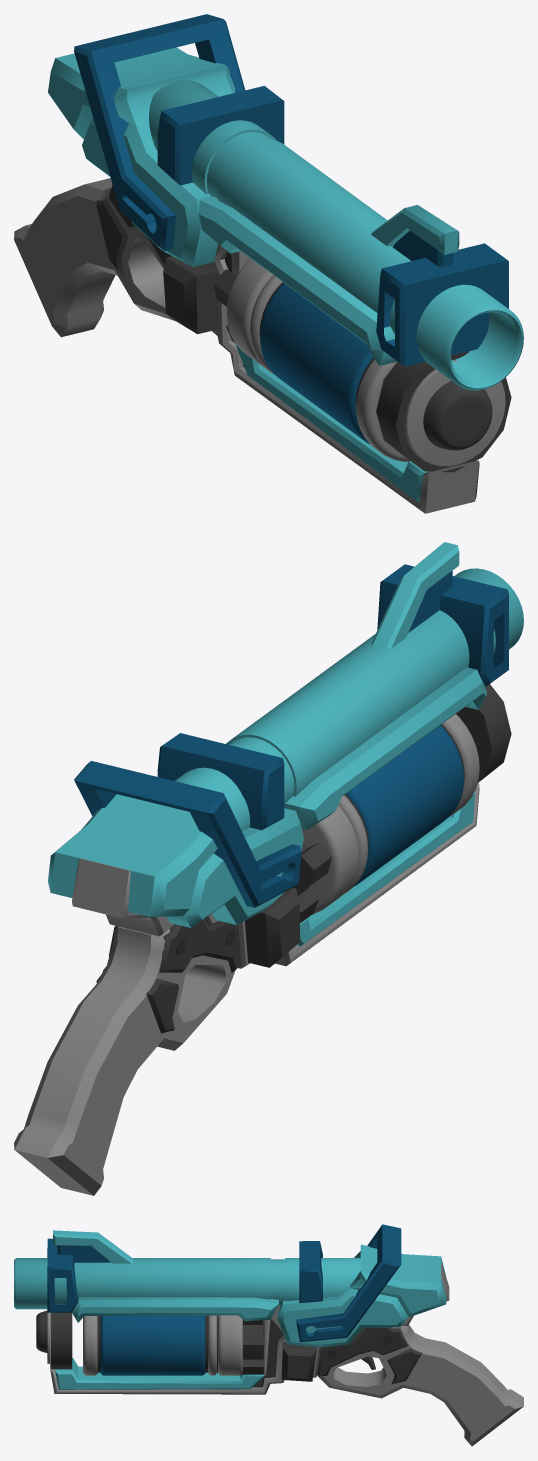
The picture shows the model from 3 angles, top to bottom: view 1: azimuth 30°, elevation 25°; view 2: azimuth 150°, elevation 25°; view 3: azimuth 270°, elevation 25°; orthographic projection. The views are drawn at different scales.
Parts seen in each view (by area): view 1: cannon_c2, body_c2, sup_c1, handle_m1, body_m2, body_c1, reload_c1, body_m1, reload_m1, scope_c2, handle_m2, scope_c1; view 2: body_c2, handle_m1, cannon_c2, sup_c1, reload_c1, body_c1, body_m2, body_m1, reload_m1, handle_m2, scope_c2, scope_c1; view 3: body_c2, cannon_c2, handle_m1, reload_c1, body_m2, body_c1, sup_c1, reload_m1, body_m1, handle_m2, scope_c2, scope_c1 (+1 smaller).
Part boxes in pixels (x1,y1,x2,y2): cannon_c2: [149, 80, 523, 390]; body_c2: [48, 47, 429, 502]; sup_c1: [157, 86, 508, 366]; handle_m1: [14, 178, 175, 337]; body_m2: [163, 252, 511, 472]; body_c1: [74, 14, 245, 250]; reload_c1: [260, 283, 373, 444]; body_m1: [206, 244, 505, 513]; reload_m1: [226, 258, 409, 461]; scope_c2: [371, 205, 459, 254]; handle_m2: [96, 184, 168, 276]; scope_c1: [393, 230, 452, 266]; body_c2: [48, 667, 486, 946]; handle_m1: [14, 926, 235, 1195]; cannon_c2: [175, 568, 523, 831]; sup_c1: [157, 564, 508, 830]; reload_c1: [346, 725, 464, 886]; body_c1: [74, 761, 301, 907]; body_m2: [245, 684, 511, 967]; body_m1: [72, 782, 479, 968]; reload_m1: [302, 714, 479, 914]; handle_m2: [96, 919, 241, 1033]; scope_c2: [371, 542, 459, 648]; scope_c1: [408, 570, 452, 632]; body_c2: [55, 1244, 446, 1389]; cannon_c2: [14, 1258, 360, 1309]; handle_m1: [317, 1324, 523, 1446]; reload_c1: [100, 1315, 205, 1375]; body_m2: [36, 1310, 316, 1387]; body_c1: [296, 1224, 401, 1342]; sup_c1: [47, 1238, 322, 1312]; reload_m1: [83, 1315, 242, 1375]; body_m1: [47, 1263, 449, 1394]; handle_m2: [317, 1327, 421, 1384]; scope_c2: [53, 1230, 133, 1263]; scope_c1: [57, 1245, 110, 1262].
Size of the model in its own units: 84 by 216 by 476.
